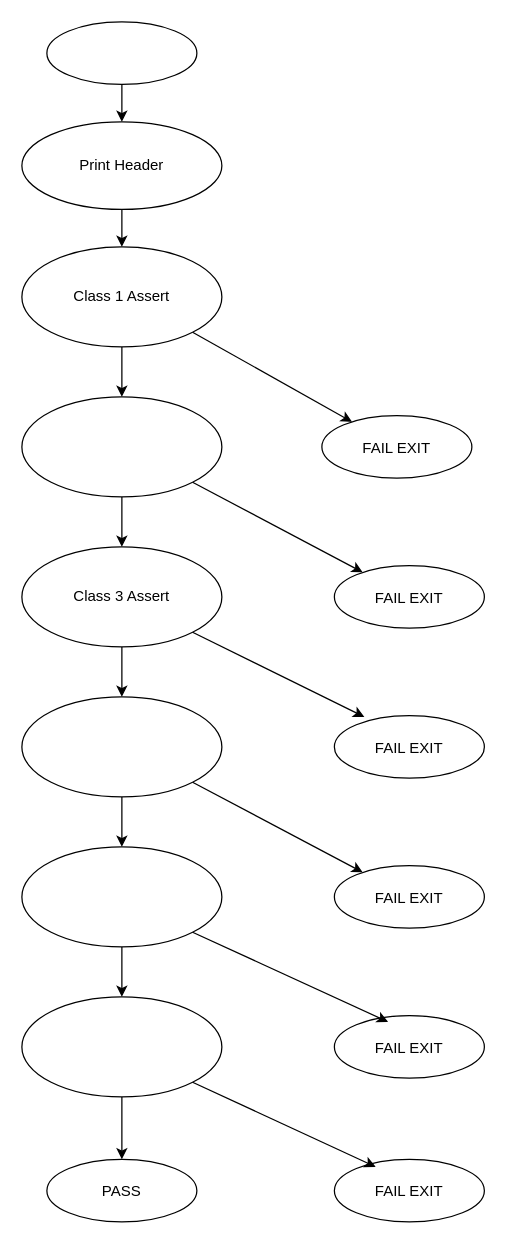
The diagram is 506 pixels wide and 1244 high, and some of its shapes have lost their labels. Here are the shapes that lost their labels. From the top down, the box of each, then its label:
(46, 21, 197, 84): Start
(21, 396, 222, 497): Class 2 Assert
(21, 696, 222, 797): Class 4 Assert
(21, 846, 222, 947): ValueError? (5a)
(21, 996, 222, 1097): ValueError? (5b)
